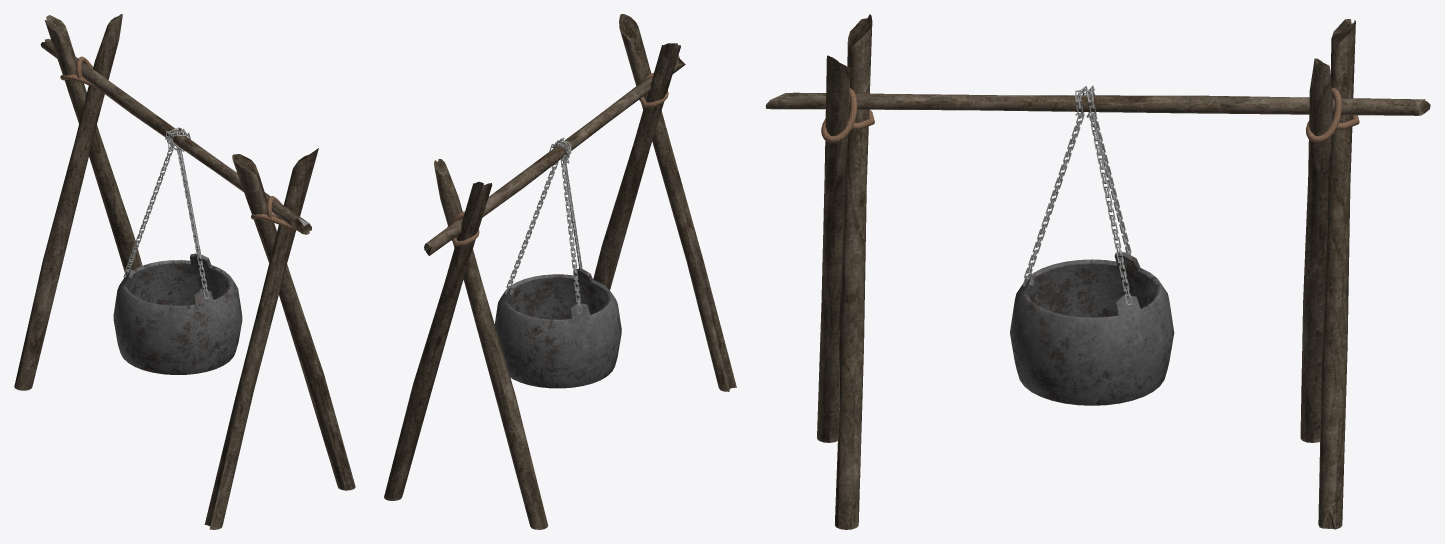
The model's file is pot_stand.fbx.
3 renders of one model, left to right at view 1: azimuth 30°, elevation 25°; view 2: azimuth 150°, elevation 25°; view 3: azimuth 270°, elevation 25°, orthographic. The views are drawn at different scales.
Parts seen in each view (by area): view 1: pot_stand; view 2: pot_stand; view 3: pot_stand.
Part boxes in pixels (x1,y1,x2,y2): pot_stand: [14, 14, 355, 529]; pot_stand: [384, 14, 736, 529]; pot_stand: [765, 14, 1430, 529].
Bounding box in the file's own units: 94.63 × 204 × 275.
